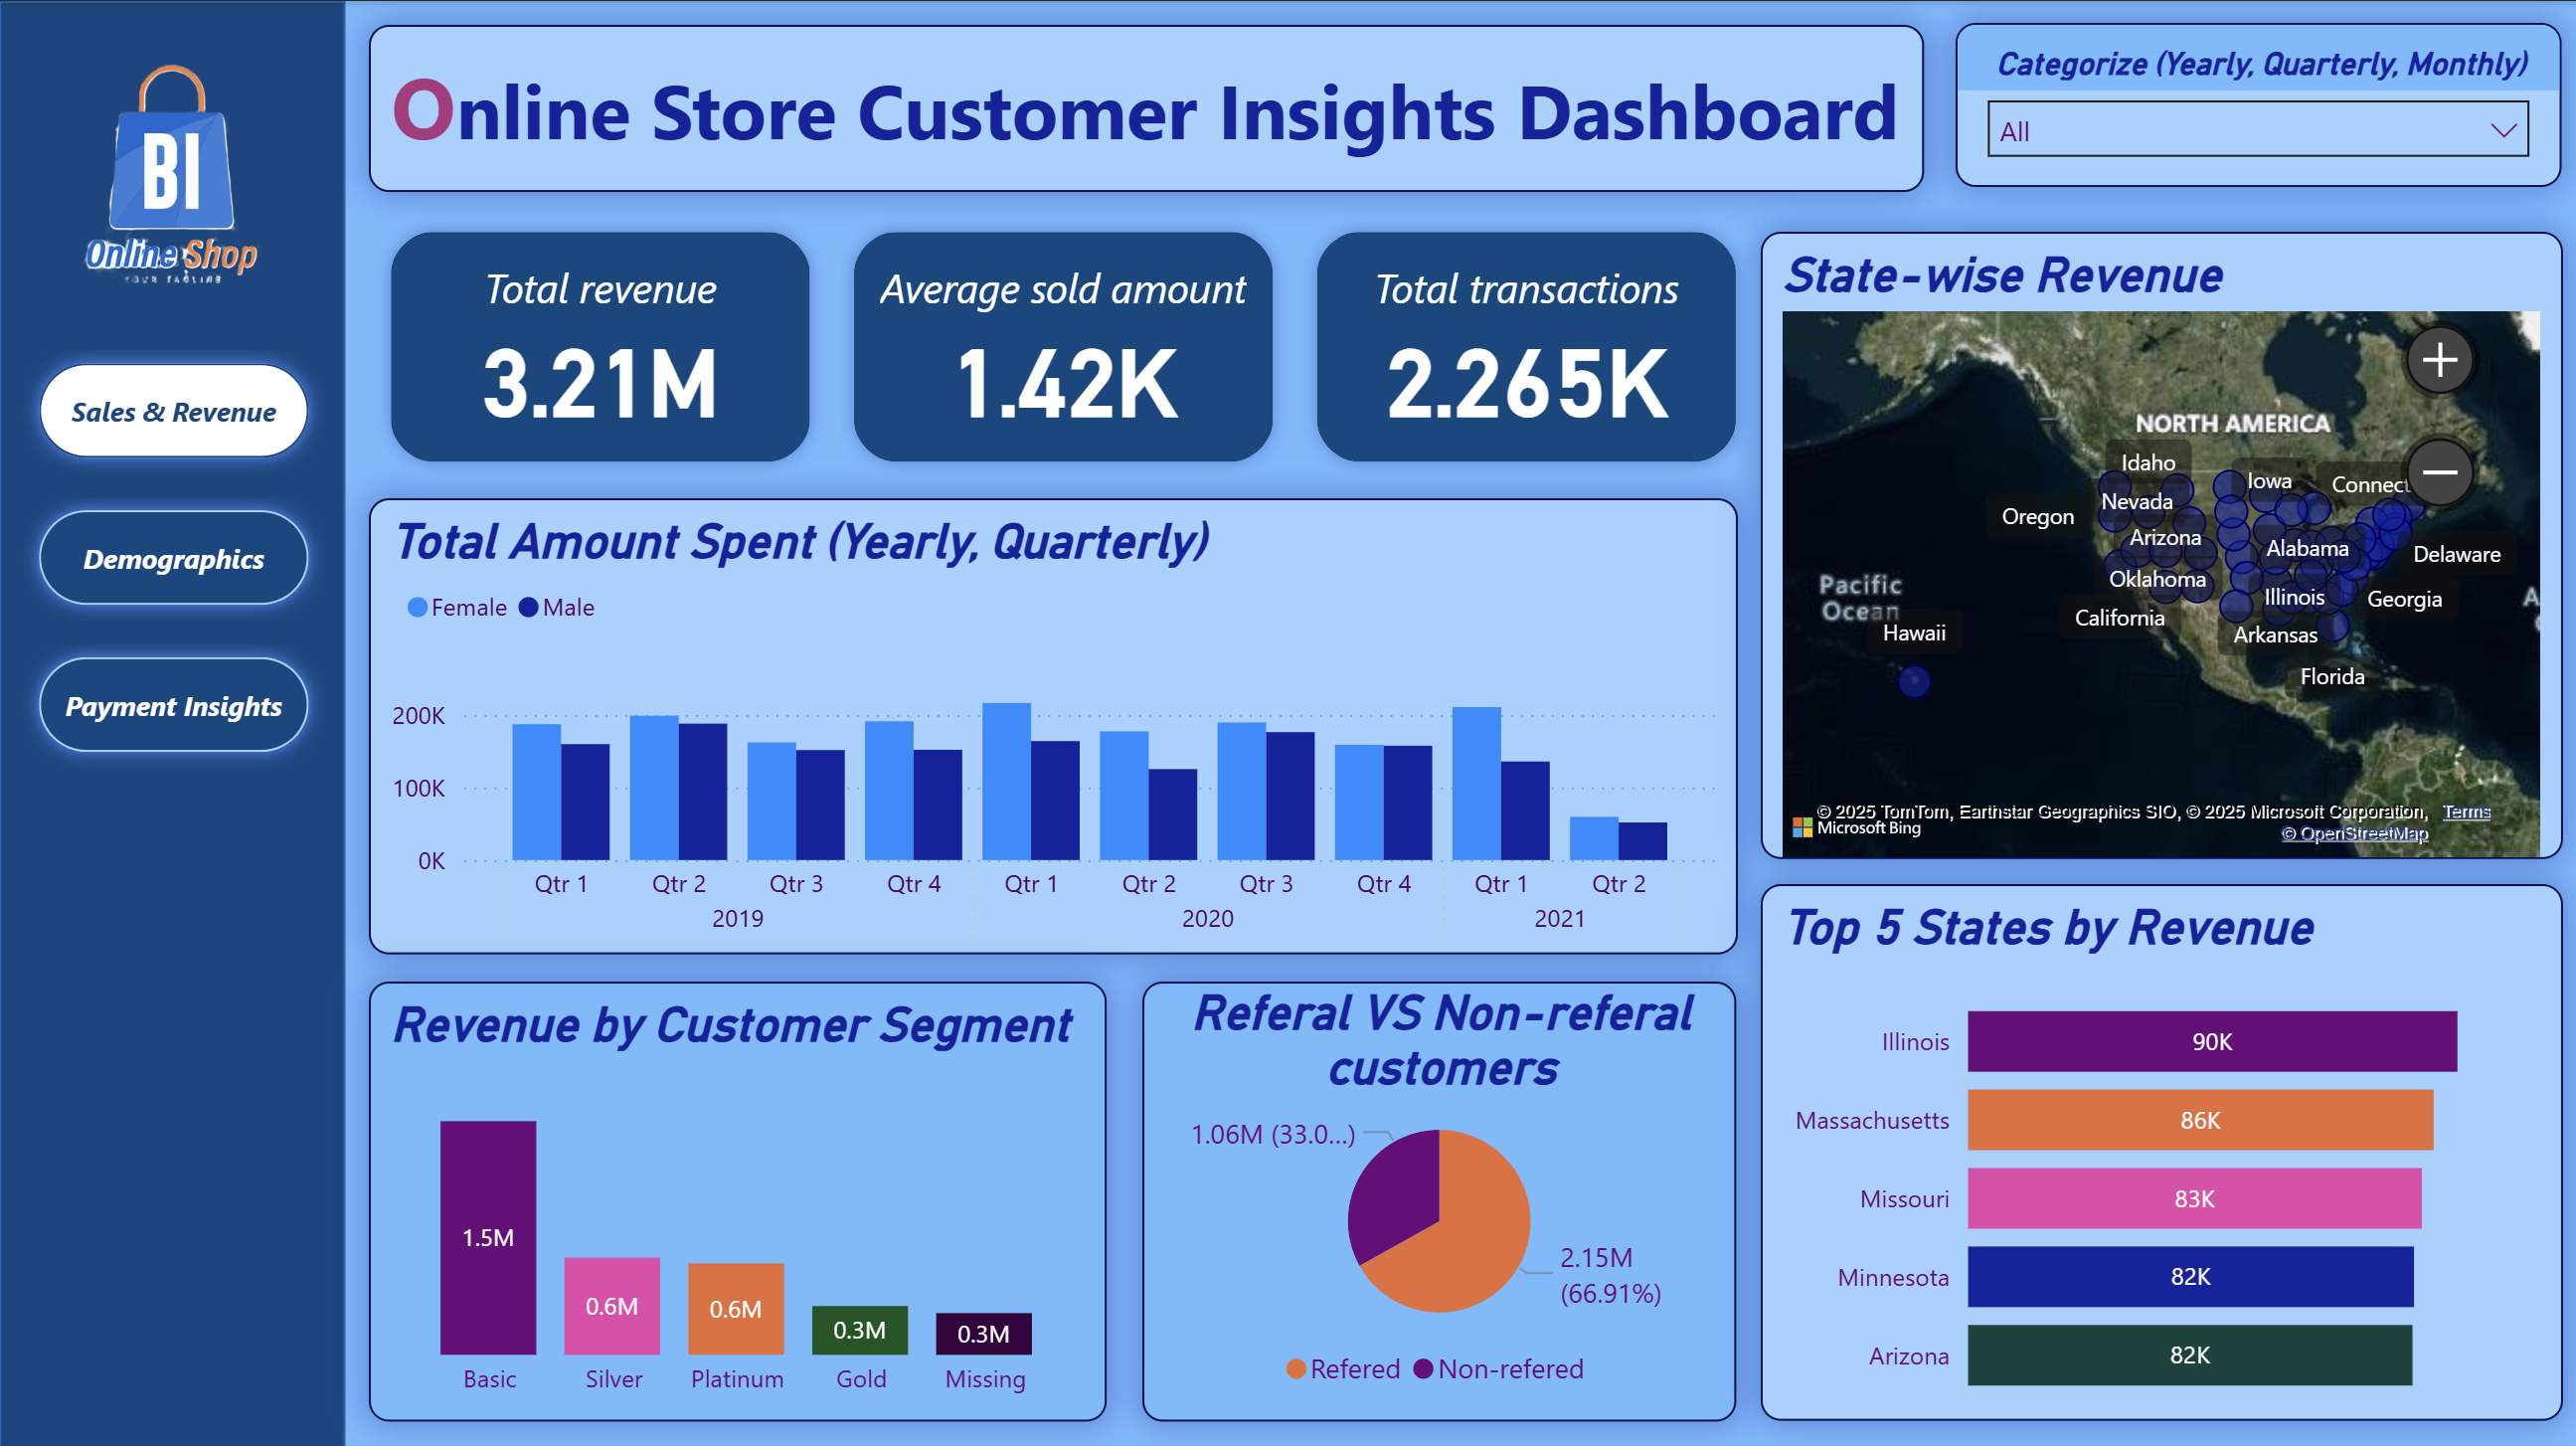

Layout of this report page (visuals, bound fields, positions):
{"tool":"powerbi","page":{"name":"Sales & Revenue","canvas":[1280,720],"ordinal":0},"visuals":[{"type":"cardVisual","title":"Revenue ","fields":{"Data":["Sum(final_customer_data.Amount_spent)","Avg(final_customer_data.Amount_spent)","CountNonNull(final_customer_data.Transaction_ID)"]},"box":[183.3,103.3,691.7,136.7],"z":0},{"type":"slicer","title":"Categorize (Yearly, Quarterly, Monthly)","fields":{"Values":["final_customer_data.Transaction_date.Variation.Date Hierarchy.Year","final_customer_data.Transaction_date.Variation.Date Hierarchy.Quarter","final_customer_data.Transaction_date.Variation.Date Hierarchy.Month"]},"box":[971.4,11.1,301.2,81.5],"z":1000},{"type":"textbox","box":[183.6,11.5,772.6,82.9],"z":2000},{"type":"shape","box":[0,0,172.1,720.3],"z":4000,"group":"g1"},{"type":"pieChart","title":"Referal VS Non-referal customers","fields":{"Y":["Sum(final_customer_data.Amount_spent)"],"Category":["final_customer_data.Referal"]},"box":[568.3,486.7,295,218.3],"z":4000},{"type":"clusteredColumnChart","title":"Total Amount Spent (Yearly, Quarterly)","fields":{"Series":["final_customer_data.Gender"],"Y":["Sum(final_customer_data.Amount_spent)"],"Category":["final_customer_data.Transaction_date.Variation.Date Hierarchy.Year","final_customer_data.Transaction_date.Variation.Date Hierarchy.Quarter"]},"box":[183.3,246.7,680,226.7],"z":5000},{"type":"map","title":"State-wise Revenue","fields":{"Category":["final_customer_data.State_names"]},"box":[875,115,398.3,311.7],"z":6000},{"type":"clusteredBarChart","title":"Top 5 States by Revenue","fields":{"Category":["final_customer_data.State_names"],"Y":["Sum(final_customer_data.Amount_spent)"]},"box":[875,438.3,398.3,266.7],"z":7000},{"type":"group","id":"g1","title":"Group 3","box":[0,0,172.1,720.3],"z":7001},{"type":"image","box":[0,0,171.7,171.7],"z":8000,"group":"g1"},{"type":"columnChart","title":"Revenue by Customer Segment","fields":{"Y":["Sum(final_customer_data.Amount_spent)"],"Category":["final_customer_data.Segment"]},"box":[183.3,486.7,366.7,218.3],"z":8000},{"type":"pageNavigator","box":[11.7,171.7,150,210],"z":13000,"group":"g1"}]}

Visuals, with their boxes in screenshot pixels (x1, y1, x2, y2), scaled from the page's 1280x720 canvas onto the 2576x1446 screenshot:
"Revenue " cardVisual: {"x1": 369, "y1": 208, "x2": 1761, "y2": 482}
"Categorize (Yearly, Quarterly, Monthly)" slicer: {"x1": 1955, "y1": 22, "x2": 2561, "y2": 186}
textbox: {"x1": 370, "y1": 23, "x2": 1925, "y2": 190}
shape: {"x1": 0, "y1": 0, "x2": 346, "y2": 1445}
"Referal VS Non-referal customers" pieChart: {"x1": 1143, "y1": 978, "x2": 1738, "y2": 1416}
"Total Amount Spent (Yearly, Quarterly)" clusteredColumnChart: {"x1": 369, "y1": 495, "x2": 1738, "y2": 951}
"State-wise Revenue" map: {"x1": 1761, "y1": 231, "x2": 2562, "y2": 857}
"Top 5 States by Revenue" clusteredBarChart: {"x1": 1761, "y1": 880, "x2": 2562, "y2": 1416}
"Group 3" group: {"x1": 0, "y1": 0, "x2": 346, "y2": 1445}
image: {"x1": 0, "y1": 0, "x2": 346, "y2": 345}
"Revenue by Customer Segment" columnChart: {"x1": 369, "y1": 978, "x2": 1107, "y2": 1416}
pageNavigator: {"x1": 24, "y1": 345, "x2": 325, "y2": 767}
